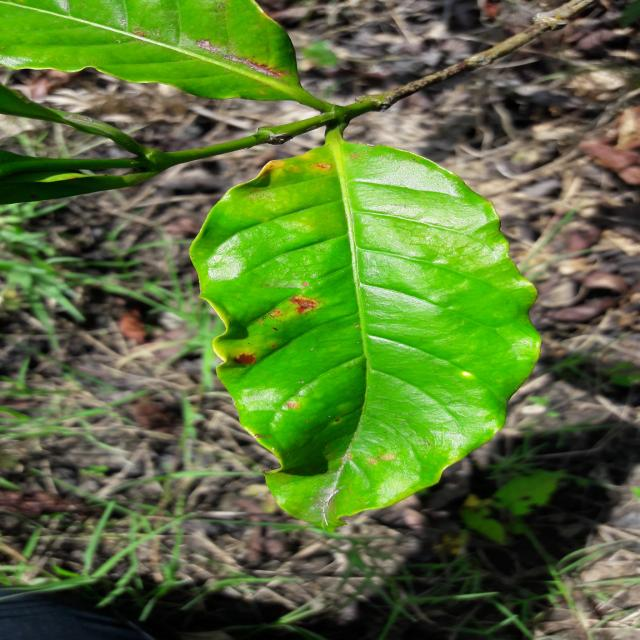Enfermedad-Roya: (188, 134, 538, 538)
